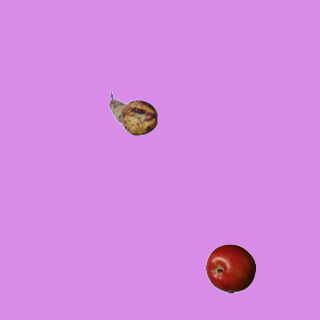Apple Braeburn: (205, 243, 255, 293)
Pear Abate: (108, 88, 158, 138)
